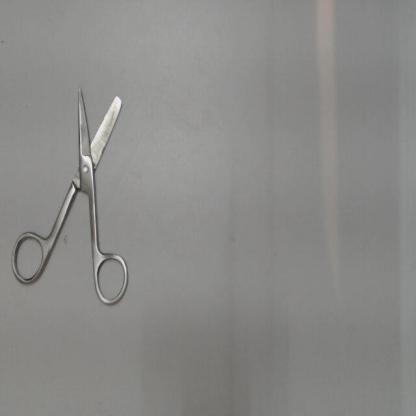Dressing Scissors: (3, 65, 135, 314)
